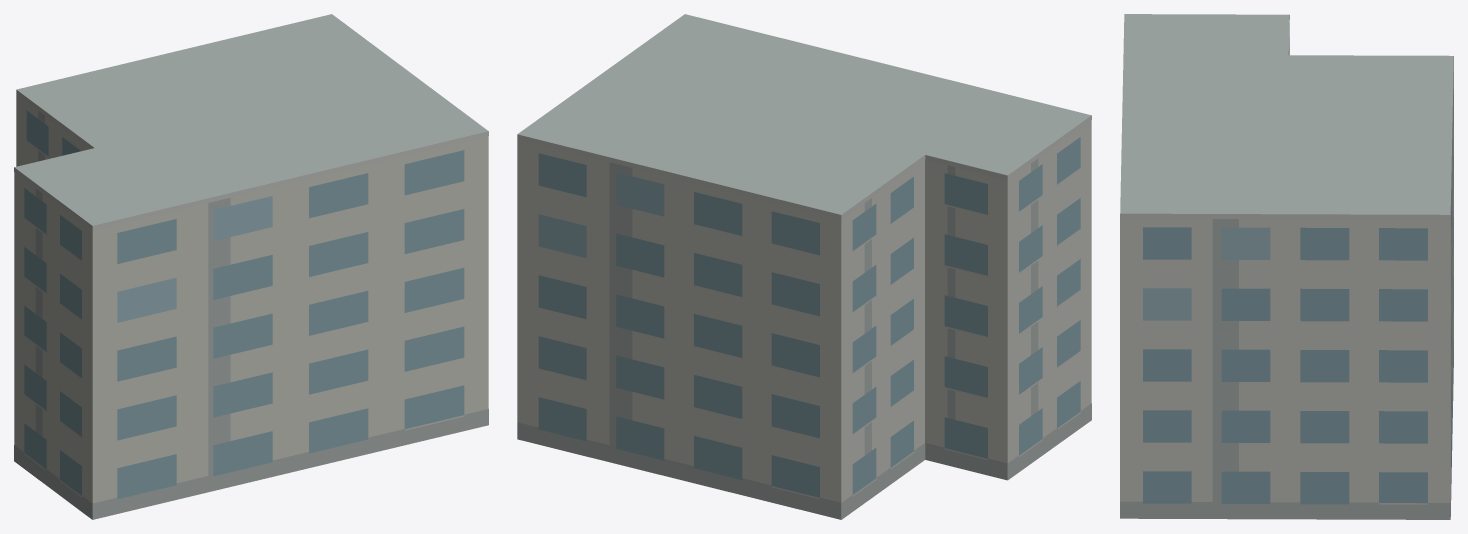
Rendered from residential-bdc2398a-19c9-45ba-9b2c-5d88e8113603.glb.
3 views of the same model, side by side, from view 1: azimuth 30°, elevation 25°; view 2: azimuth 150°, elevation 25°; view 3: azimuth 270°, elevation 25° (orthographic). The views are drawn at different scales.
Visible parts, largest first — view 1: residential-bdc2398a-19c9-45ba-9b2c-5d88e8113603.tmp; view 2: residential-bdc2398a-19c9-45ba-9b2c-5d88e8113603.tmp; view 3: residential-bdc2398a-19c9-45ba-9b2c-5d88e8113603.tmp.
Boxes of the visible parts, box(x1,y1,x2,y2) form: residential-bdc2398a-19c9-45ba-9b2c-5d88e8113603.tmp: box(14, 14, 488, 519); residential-bdc2398a-19c9-45ba-9b2c-5d88e8113603.tmp: box(517, 14, 1091, 519); residential-bdc2398a-19c9-45ba-9b2c-5d88e8113603.tmp: box(1120, 14, 1453, 519).
Bounding box in the file's own units: 21.54 × 15.25 × 15.13.
